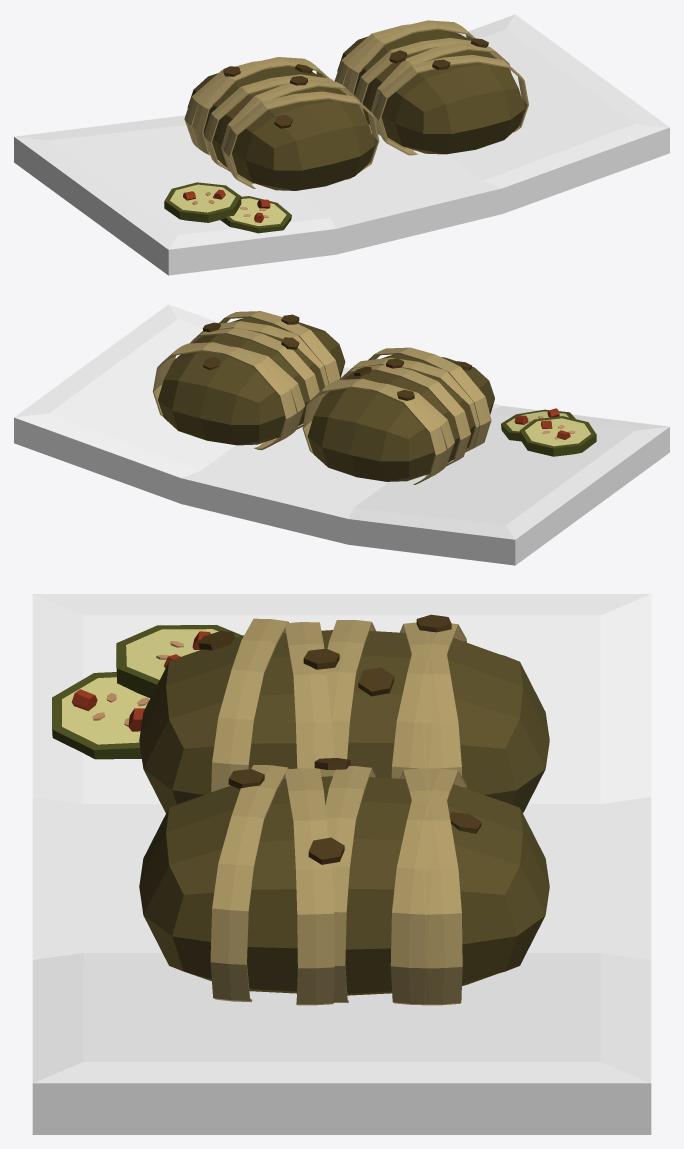
The model's file is FINAL_Pinangat na Gabi.fbx.
The picture shows the model from 3 angles, top to bottom: view 1: azimuth 30°, elevation 25°; view 2: azimuth 150°, elevation 25°; view 3: azimuth 270°, elevation 25°; orthographic projection. The views are drawn at different scales.
Visible parts, largest first — view 1: Pinangat na Gabi; view 2: Pinangat na Gabi; view 3: Pinangat na Gabi.
Boxes of the visible parts, <box> form: Pinangat na Gabi: <box>14,14,669,275</box>; Pinangat na Gabi: <box>14,304,669,565</box>; Pinangat na Gabi: <box>32,594,651,1134</box>.
Bounding box in the file's own units: 125 × 27.15 × 66.95.
